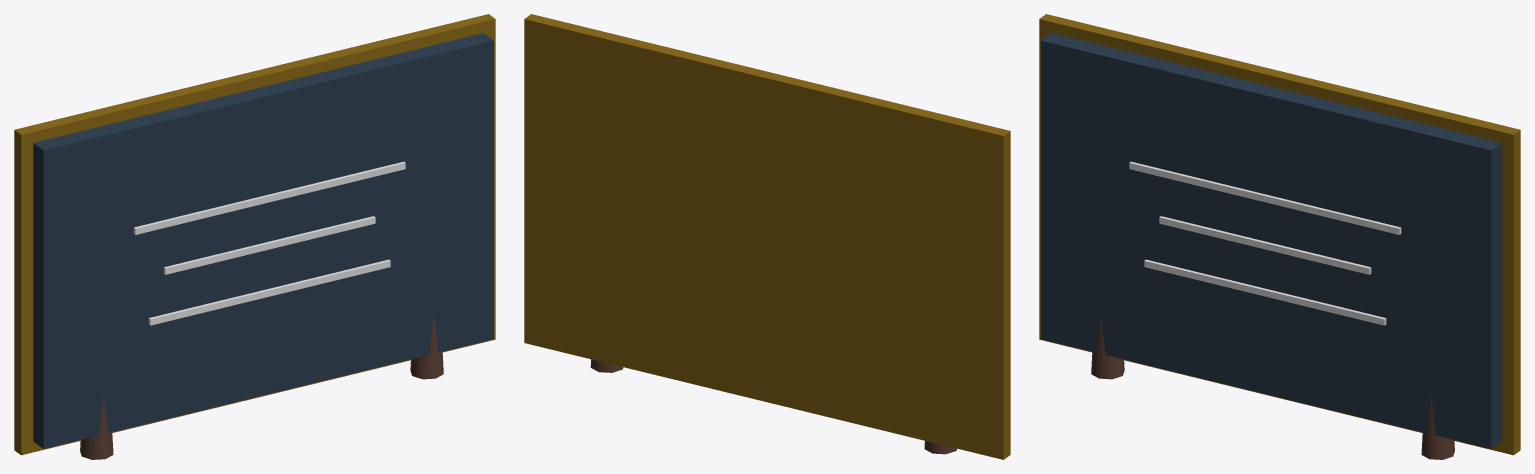
The model's file is board.glb.
3 views of the same model, side by side, from view 1: azimuth 30°, elevation 25°; view 2: azimuth 150°, elevation 25°; view 3: azimuth 330°, elevation 25° (orthographic).
Visible parts, largest first — view 1: board; view 2: board; view 3: board.
Boxes of the visible parts, x1,y1,x2,y2 form: board: [14, 14, 495, 459]; board: [524, 14, 1010, 459]; board: [1039, 14, 1520, 459].
Bounding box in the file's own units: 1.58 × 1.06 × 0.11.
